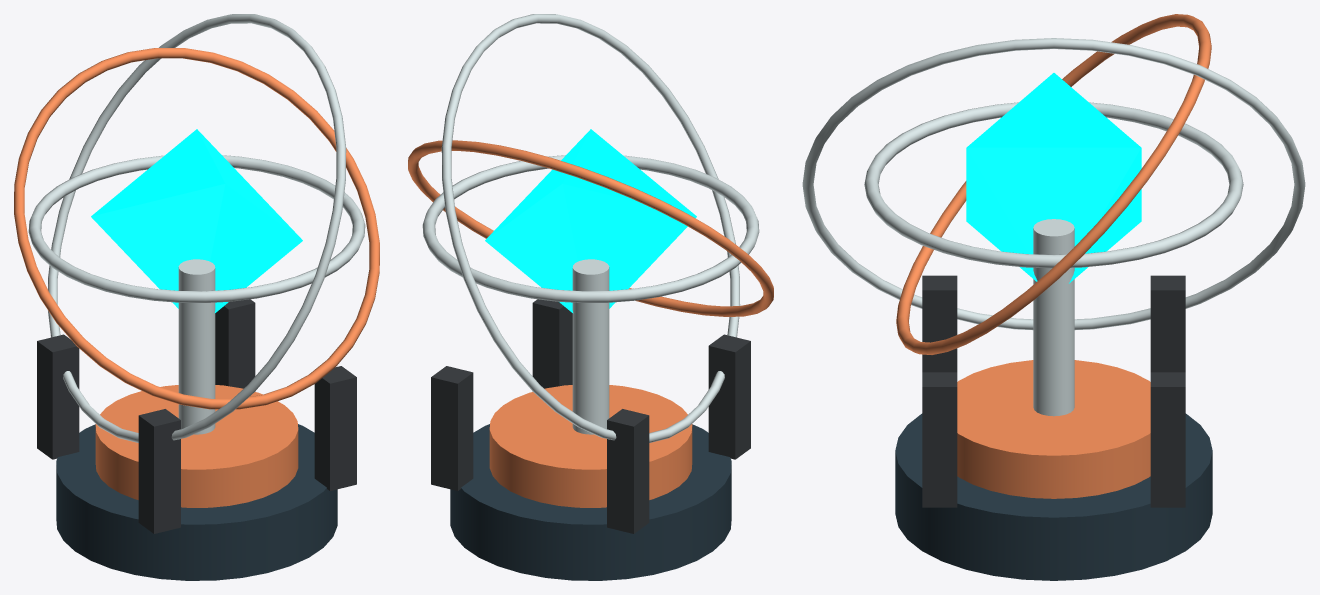
The model's file is orbit-beacon.gltf.
3 views of the same model, side by side, from view 1: azimuth 30°, elevation 25°; view 2: azimuth 150°, elevation 25°; view 3: azimuth 270°, elevation 25° (orthographic). The views are drawn at different scales.
Parts seen in each view (by area): view 1: Pedestal, Energy Core, Anchor (×4), Pedestal Collar, Orbit Ring B, Orbit Ring C, Orbit Ring A, Signal Mast; view 2: Pedestal, Anchor (×4), Energy Core, Pedestal Collar, Orbit Ring C, Orbit Ring A, Orbit Ring B, Signal Mast; view 3: Pedestal, Pedestal Collar, Energy Core, Anchor (×4), Orbit Ring C, Orbit Ring A, Orbit Ring B, Signal Mast.
Boxes of the visible parts, left/top/right/bottom form: Pedestal: left=56, top=424, right=337, bottom=580; Energy Core: left=91, top=129, right=302, bottom=313; Anchor (×4): left=37, top=299, right=356, bottom=533; Pedestal Collar: left=95, top=385, right=298, bottom=507; Orbit Ring B: left=14, top=48, right=379, bottom=409; Orbit Ring C: left=48, top=14, right=346, bottom=442; Orbit Ring A: left=28, top=155, right=365, bottom=302; Signal Mast: left=178, top=259, right=215, bottom=434; Pedestal: left=450, top=424, right=731, bottom=580; Anchor (×4): left=431, top=299, right=750, bottom=533; Energy Core: left=485, top=129, right=696, bottom=313; Pedestal Collar: left=489, top=385, right=692, bottom=507; Orbit Ring C: left=441, top=14, right=740, bottom=442; Orbit Ring A: left=422, top=155, right=759, bottom=302; Orbit Ring B: left=408, top=140, right=773, bottom=316; Signal Mast: left=572, top=259, right=609, bottom=434; Pedestal: left=895, top=413, right=1212, bottom=580; Pedestal Collar: left=957, top=360, right=1150, bottom=498; Energy Core: left=966, top=73, right=1141, bottom=283; Anchor (×4): left=922, top=275, right=1185, bottom=507; Orbit Ring C: left=802, top=38, right=1305, bottom=330; Orbit Ring A: left=864, top=102, right=1243, bottom=268; Orbit Ring B: left=896, top=14, right=1211, bottom=354; Signal Mast: left=1033, top=219, right=1074, bottom=416.
Size of the model in its own units: 2.78 by 3.67 by 3.17.
